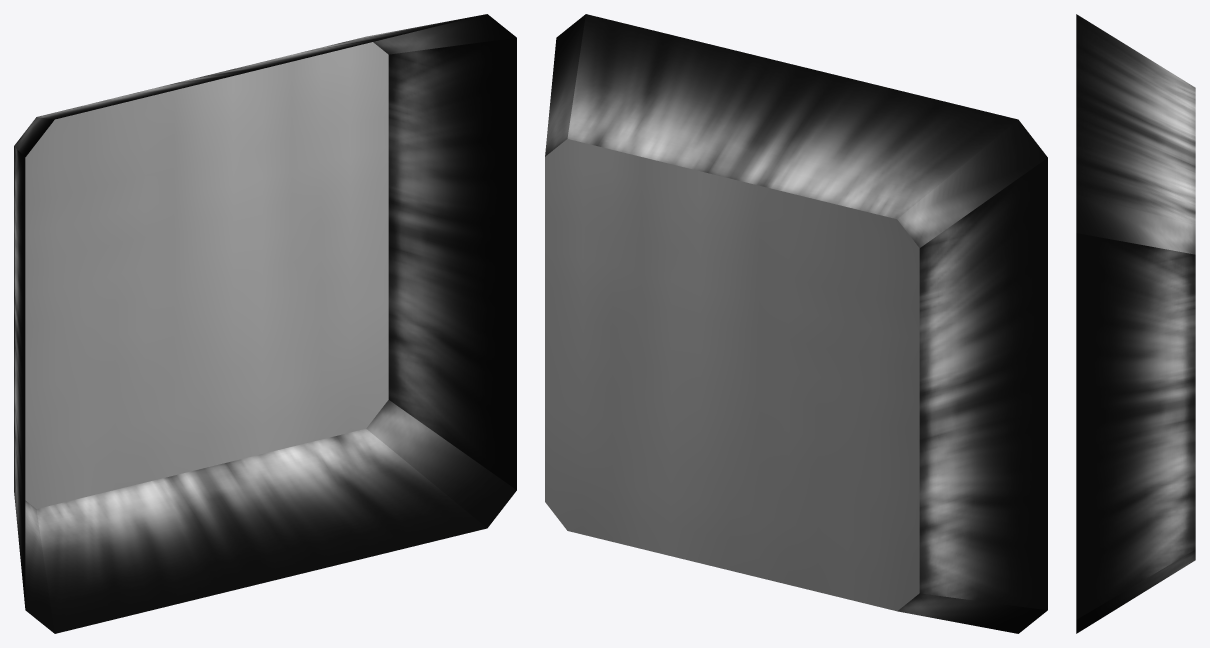
File: Light_Flat_Square_Lightcone.FBX
3 renders of one model, left to right at view 1: azimuth 30°, elevation 25°; view 2: azimuth 150°, elevation 25°; view 3: azimuth 270°, elevation 25°, orthographic. The views are drawn at different scales.
Parts seen in each view (by area): view 1: Light_Flat_Square_lightcone; view 2: Light_Flat_Square_lightcone; view 3: Light_Flat_Square_lightcone.
Part boxes in pixels (x1,y1,x2,y2): Light_Flat_Square_lightcone: (14,14,516,633); Light_Flat_Square_lightcone: (545,14,1047,633); Light_Flat_Square_lightcone: (1076,14,1195,633).
Bounding box in the file's own units: 100 × 100 × 24.61.
